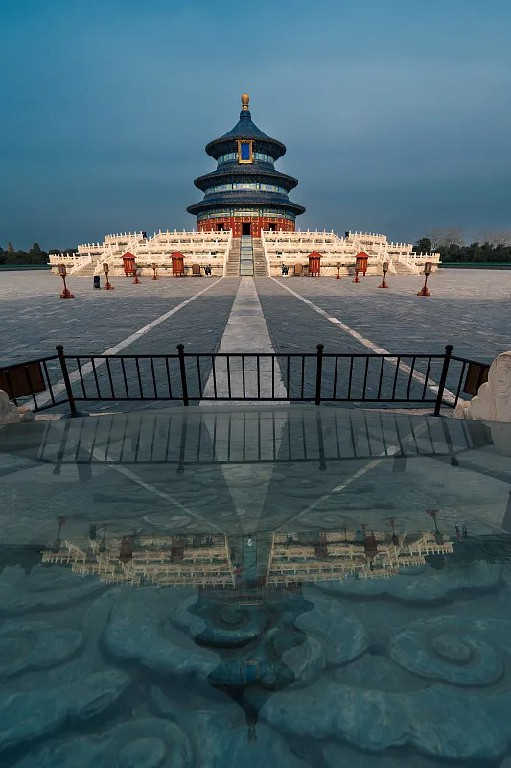Heaven: (185, 93, 307, 233)
